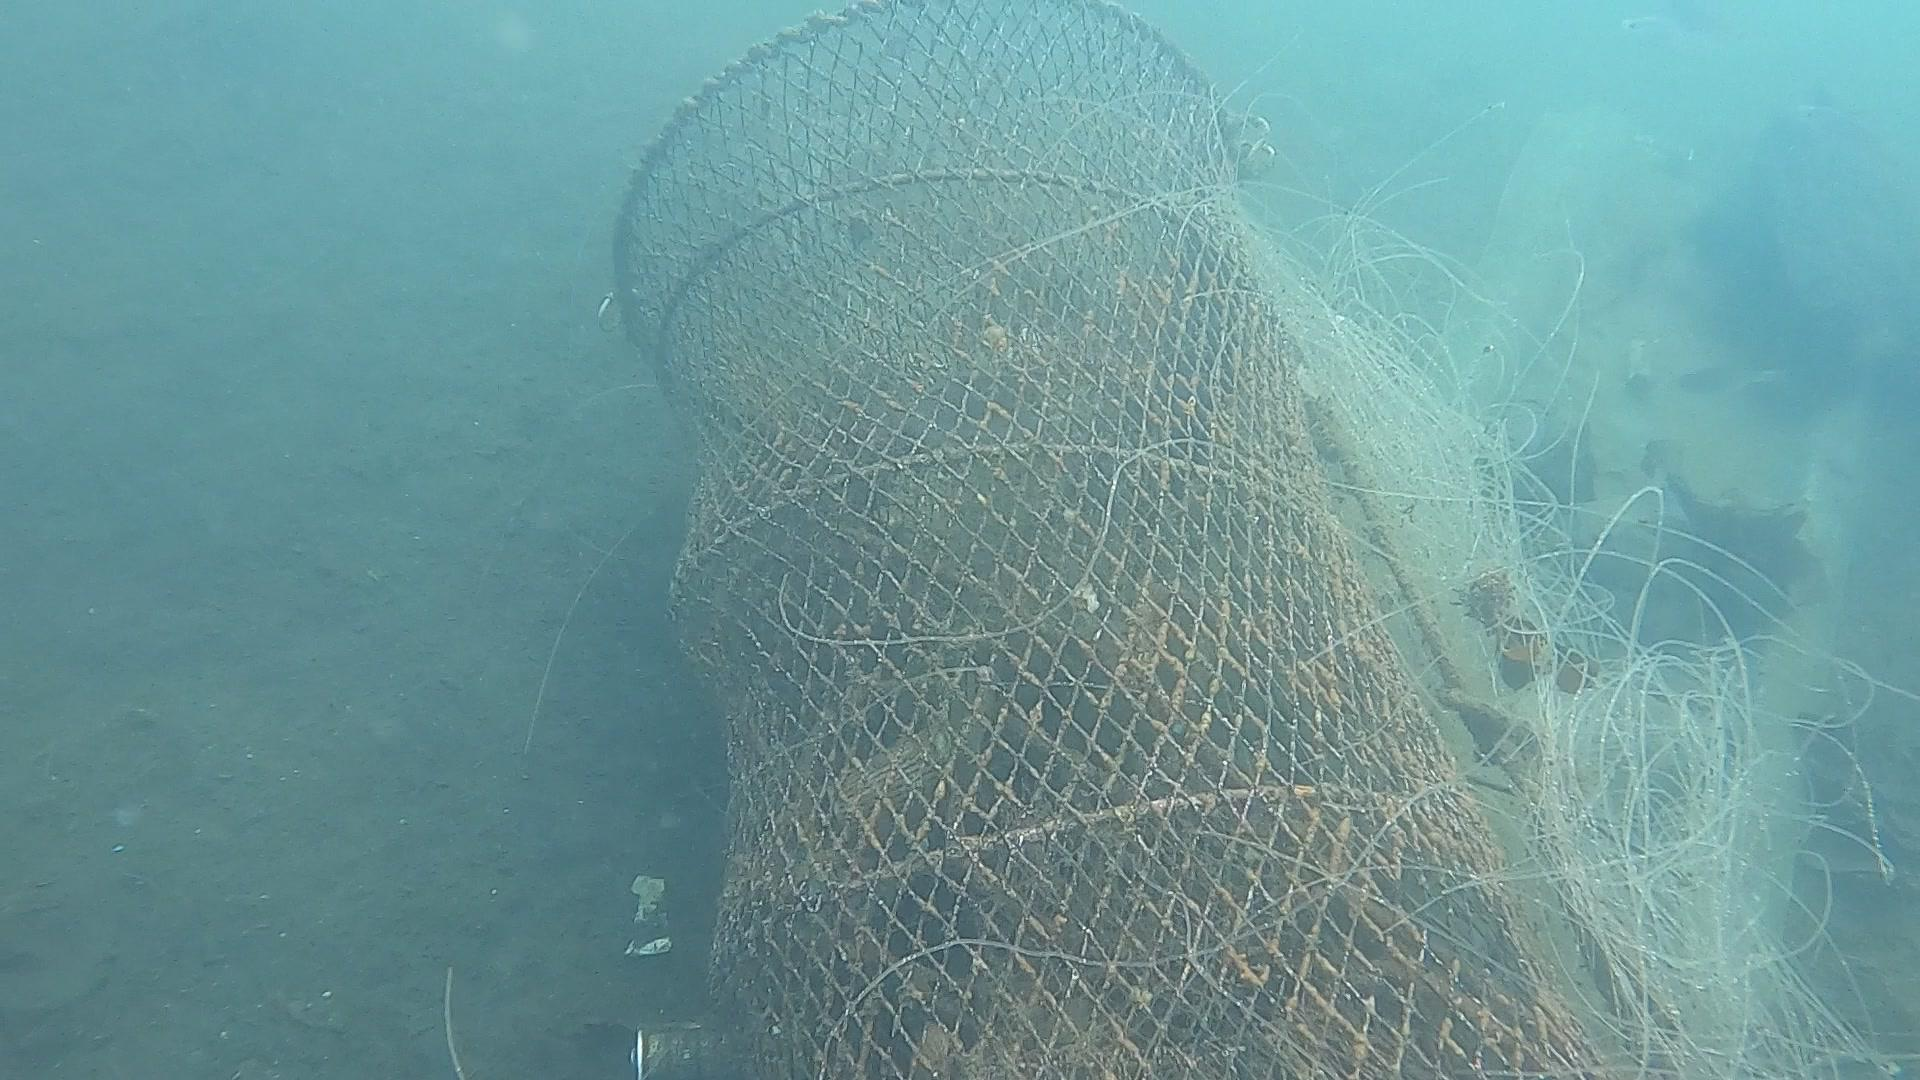spring fish trap: (593, 4, 1626, 1080)
